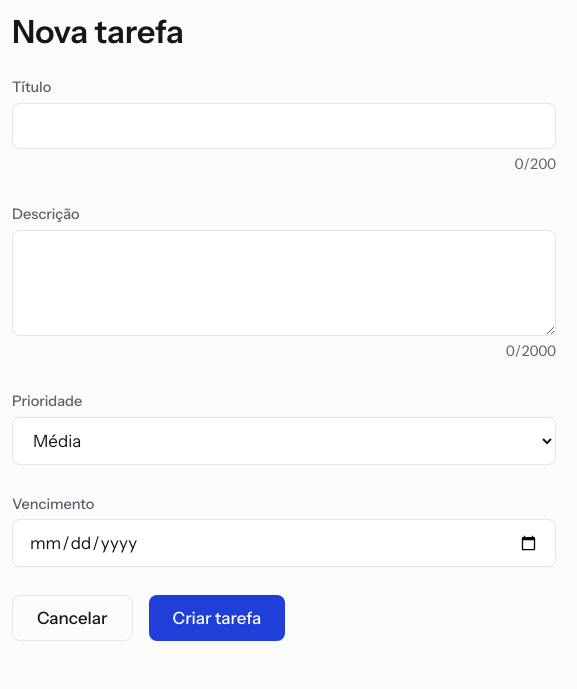
it: CreateTaskComponent › erro de rede exibe mensagem geral e preserva o que foi digitado (CA-21)
Type "Estudar offline" into the field labelled "Título" at (284, 126), box [12,102,556,148]
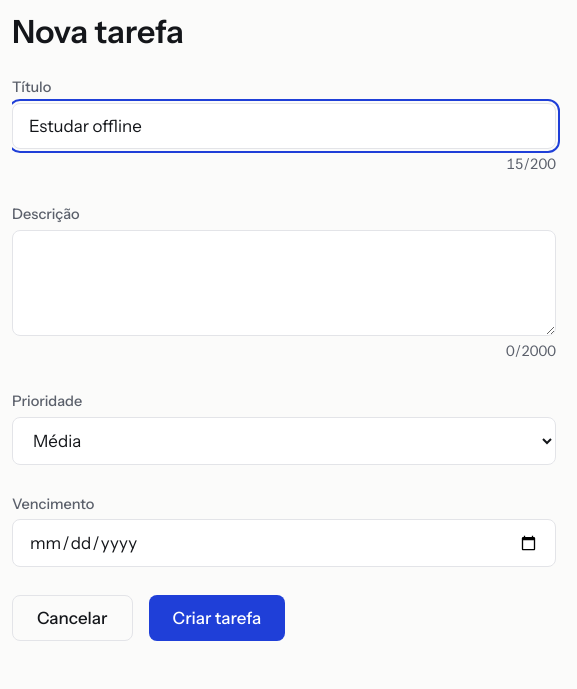
Click the button "Criar tarefa" at (217, 618), box [149,595,285,641]
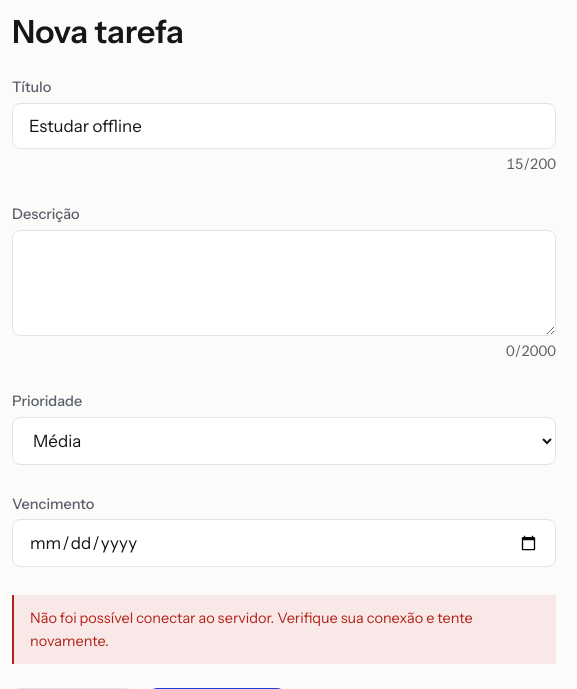
Check: the message is shown, box [12,595,556,664]
